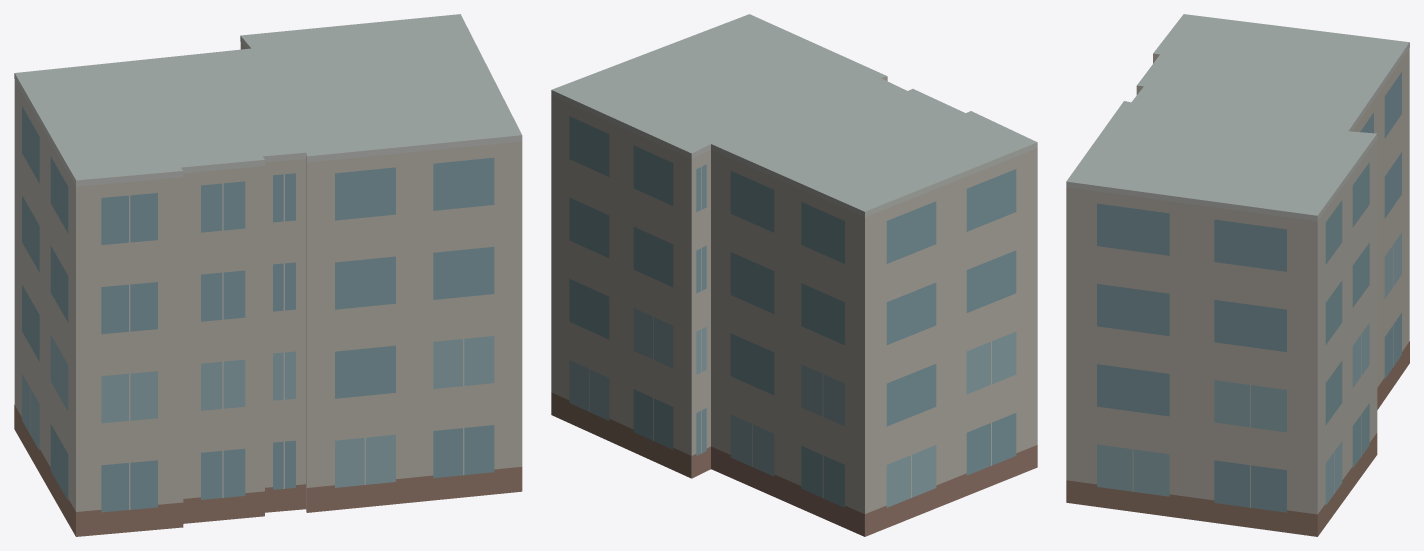
File: survey-upis-32980033.glb
3 views of the same model, side by side, from view 1: azimuth 30°, elevation 25°; view 2: azimuth 150°, elevation 25°; view 3: azimuth 270°, elevation 25° (orthographic). The views are drawn at different scales.
Visible parts, largest first — view 1: survey-upis-32980033.tmp; view 2: survey-upis-32980033.tmp; view 3: survey-upis-32980033.tmp.
Part boxes in pixels (left/top/right/bottom): survey-upis-32980033.tmp: left=14, top=14, right=522, bottom=536; survey-upis-32980033.tmp: left=551, top=14, right=1037, bottom=536; survey-upis-32980033.tmp: left=1066, top=14, right=1409, bottom=536.
Size of the model in its own units: 19 by 14.09 by 13.67.
